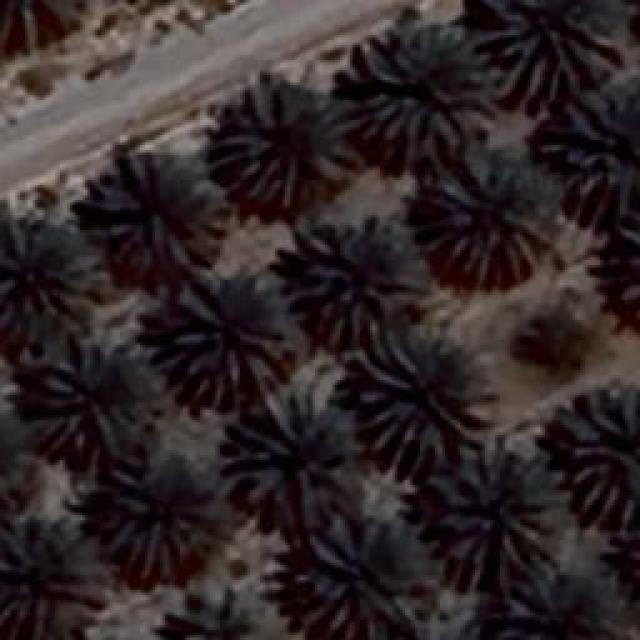PalmTree: (340, 22, 505, 160), (417, 140, 555, 282), (358, 330, 498, 468), (215, 80, 360, 205), (160, 272, 292, 406), (302, 512, 440, 638), (432, 442, 558, 578), (295, 218, 423, 348), (90, 155, 228, 275), (222, 398, 350, 520), (477, 0, 607, 102), (30, 340, 135, 450), (0, 217, 102, 324), (552, 85, 638, 210), (555, 388, 635, 522), (100, 458, 192, 572), (461, 579, 605, 640), (0, 526, 75, 639), (0, 0, 88, 62), (154, 588, 252, 640), (0, 405, 40, 522), (600, 220, 640, 322), (603, 519, 640, 617)
